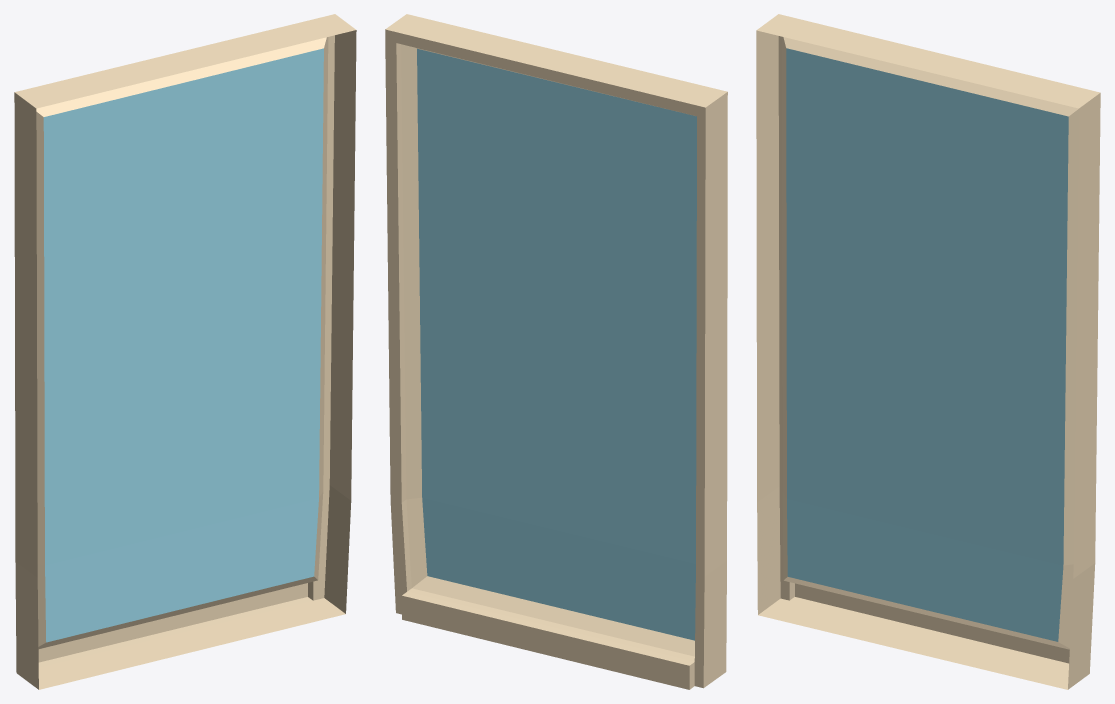
The model's file is окно спальня.fbx.
3 views of the same model, side by side, from view 1: azimuth 30°, elevation 25°; view 2: azimuth 150°, elevation 25°; view 3: azimuth 330°, elevation 25° (orthographic).
Visible parts, largest first — view 1: окно ванная.003; view 2: окно ванная.003; view 3: окно ванная.003.
Boxes of the visible parts, box(x1,y1,x2,y2) form: окно ванная.003: box(14, 14, 356, 689); окно ванная.003: box(385, 14, 727, 689); окно ванная.003: box(756, 14, 1100, 689).
Bounding box in the file's own units: 1188 × 2058 × 179.
